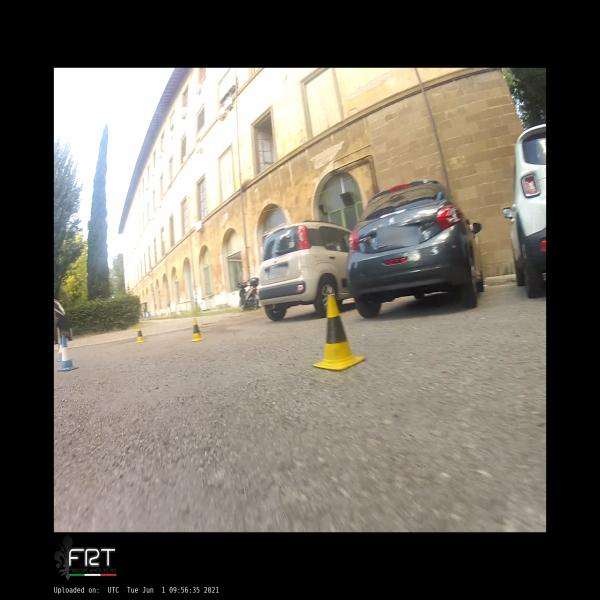blue_cone: (57, 336, 79, 371), (57, 338, 63, 362)
yellow_cone: (312, 294, 365, 371), (190, 318, 205, 342), (135, 326, 146, 343)
